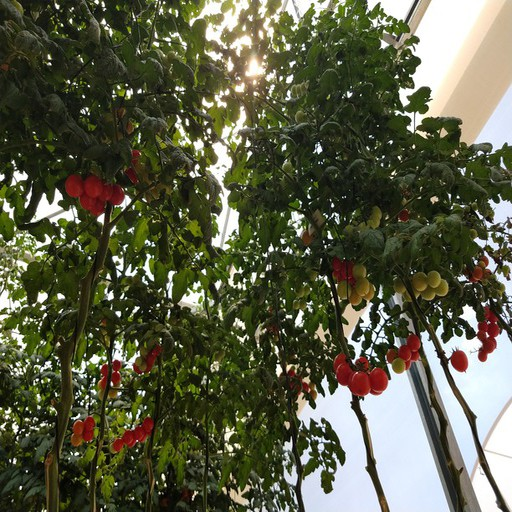green tomato bunch: (391, 270, 449, 303), (341, 204, 382, 239), (290, 267, 317, 310)
mixed tomato bunch: (66, 150, 145, 217), (332, 255, 375, 304), (112, 416, 155, 454), (383, 333, 422, 373), (280, 367, 319, 402), (133, 338, 161, 376), (98, 360, 121, 400), (465, 256, 493, 288), (69, 417, 97, 444)
red tomato bunch: (333, 353, 388, 398), (475, 302, 500, 361)
